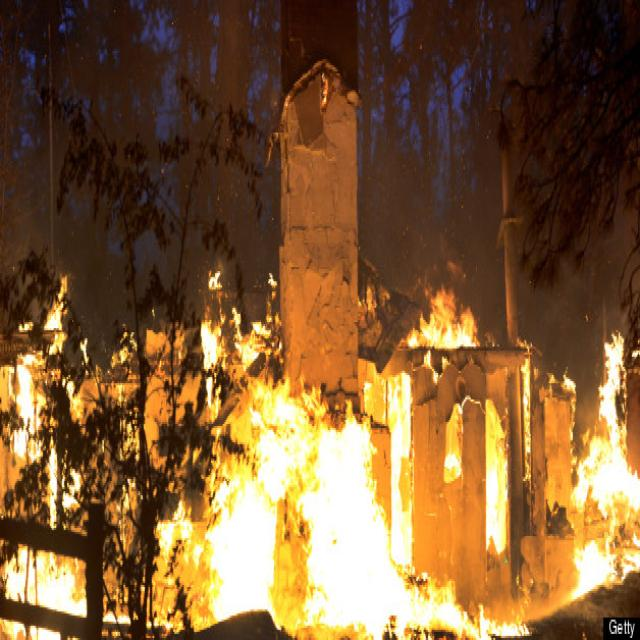Fire: (299, 420, 401, 638), (202, 477, 284, 632), (577, 326, 640, 508), (401, 564, 531, 640), (6, 521, 82, 621), (383, 376, 419, 574), (571, 515, 640, 600), (252, 396, 308, 494), (12, 348, 49, 478), (191, 287, 231, 400), (421, 288, 471, 364), (236, 296, 272, 389), (483, 452, 511, 565), (518, 356, 540, 494), (47, 273, 75, 357), (63, 465, 92, 527), (158, 503, 183, 569), (104, 596, 134, 629), (445, 444, 462, 477)
Smoke: (5, 0, 533, 250)
